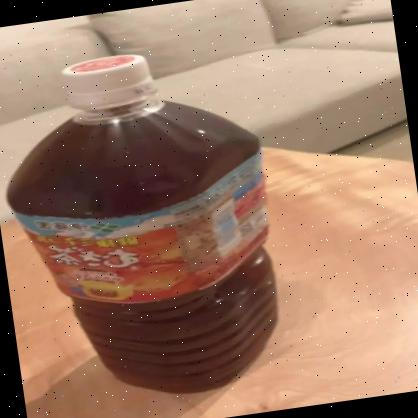bottle: (0, 36, 299, 413)
cap: (53, 47, 163, 123)
label: (11, 149, 286, 317)
